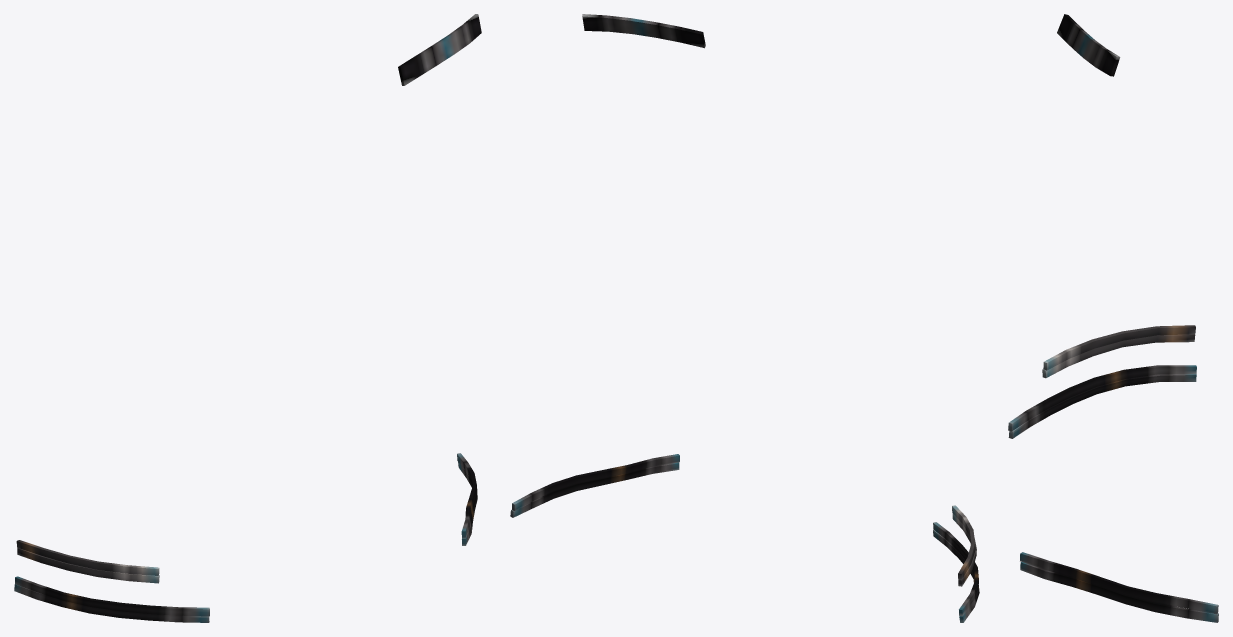
File: str8pcktwtdb.glb
3 renders of one model, left to right at view 1: azimuth 30°, elevation 25°; view 2: azimuth 150°, elevation 25°; view 3: azimuth 270°, elevation 25°, orthographic. The views are drawn at different scales.
Parts seen in each view (by area): view 1: pocket (×5); view 2: pocket (×4); view 3: pocket (×7).
Boxes of the visible parts, x1,y1,x2,y2 form: pocket (×5): (14,14,481,622); pocket (×4): (510,14,978,616); pocket (×7): (1008,14,1218,622).
Bounding box in the file's own units: 340 × 354 × 121.
7 materials, 7 textured.
